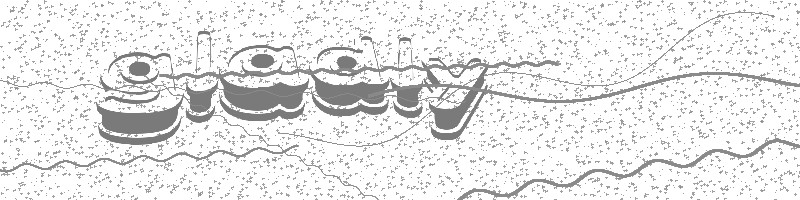a: (218, 42, 309, 122)
d: (309, 36, 391, 115)
g: (93, 48, 182, 145)
l: (184, 29, 219, 125), (390, 35, 426, 119)
y: (423, 56, 488, 141)
